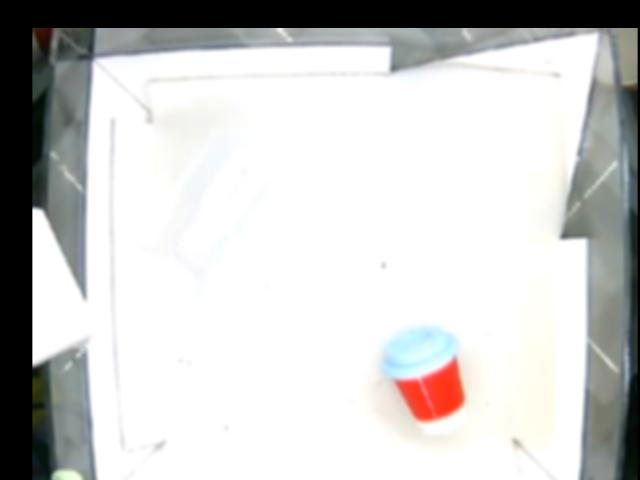Bottle: (137, 137, 282, 282)
Cup: (384, 325, 468, 433)
